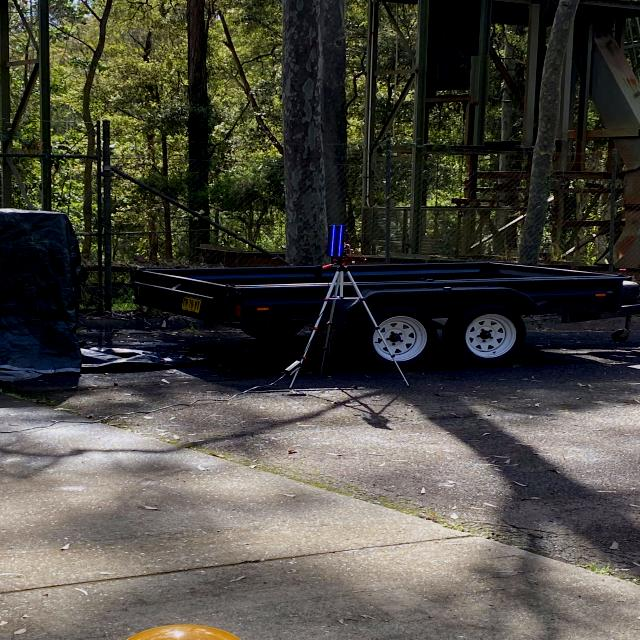matrix: (326, 223, 348, 258)
